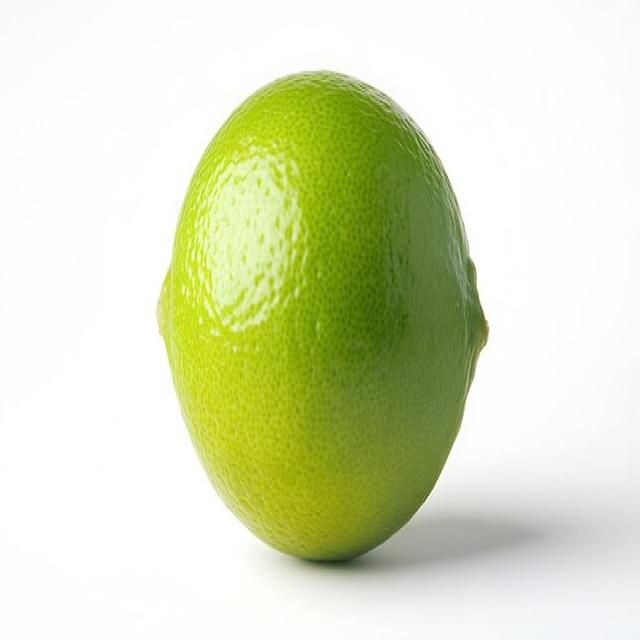Lemon: (155, 68, 489, 564)
